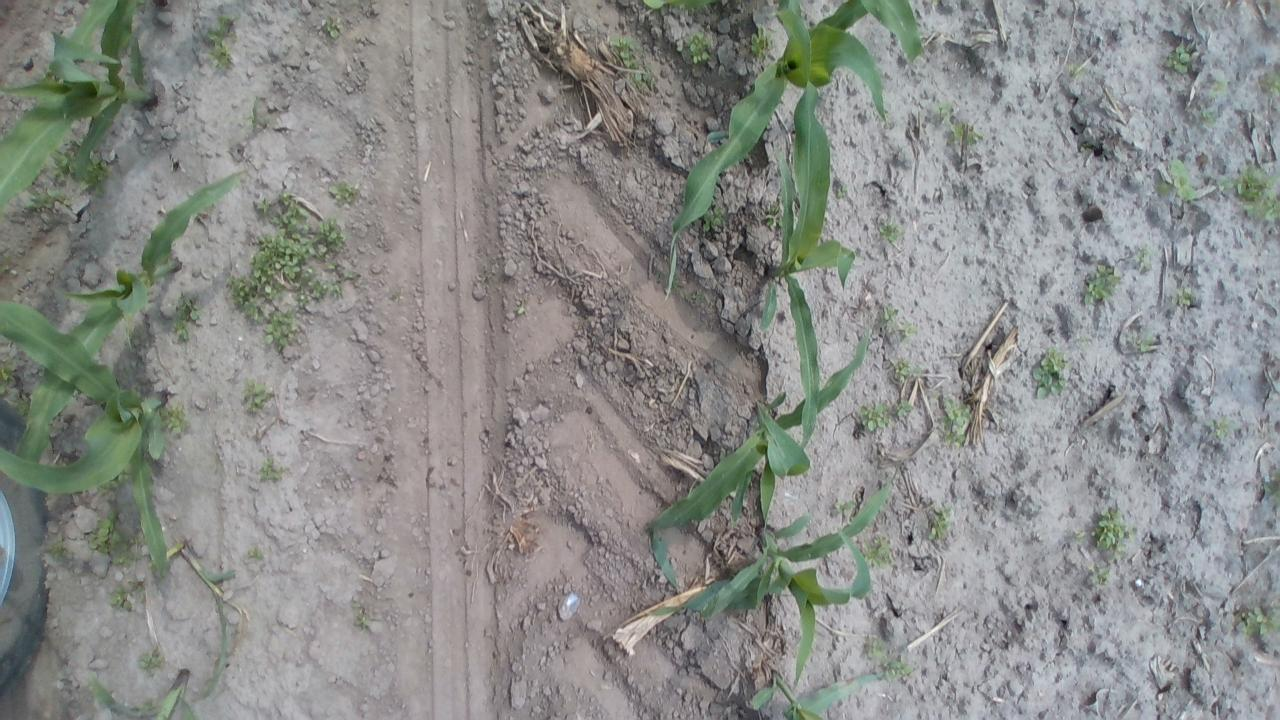Maize: (658, 0, 932, 298), (12, 172, 252, 468), (640, 318, 875, 598), (638, 461, 899, 688), (0, 298, 184, 576), (756, 48, 854, 452), (0, 0, 163, 221), (178, 544, 240, 701), (744, 665, 888, 718), (83, 666, 211, 718), (644, 0, 714, 12)
Weeds: (226, 232, 314, 322), (1232, 164, 1280, 222), (89, 513, 140, 567), (606, 32, 650, 90), (1091, 505, 1134, 561), (1154, 156, 1198, 204), (1030, 346, 1070, 398), (936, 393, 972, 448), (203, 12, 234, 72), (269, 192, 311, 233), (314, 214, 350, 260), (1234, 602, 1277, 640), (1083, 262, 1119, 306), (264, 310, 302, 351), (21, 186, 74, 215), (77, 153, 110, 195), (677, 30, 715, 66), (240, 376, 274, 416), (174, 296, 202, 342), (51, 148, 82, 184), (861, 536, 894, 568), (927, 503, 954, 542), (98, 471, 129, 504), (1164, 44, 1196, 75), (111, 582, 144, 612), (328, 178, 362, 207), (161, 402, 190, 435), (948, 120, 982, 148), (244, 98, 270, 134), (748, 28, 776, 60), (858, 402, 887, 432), (1205, 414, 1235, 442), (878, 303, 903, 336), (0, 354, 17, 400), (259, 456, 286, 483), (888, 358, 916, 384), (1126, 328, 1156, 352), (138, 647, 164, 674), (704, 205, 728, 234), (886, 658, 912, 684), (12, 388, 33, 419), (878, 220, 904, 244), (46, 536, 68, 564), (1088, 565, 1116, 587), (890, 397, 914, 422), (352, 604, 373, 632), (1195, 106, 1219, 130), (1262, 468, 1278, 503), (321, 16, 343, 41), (36, 66, 65, 84), (862, 638, 886, 659), (1256, 71, 1277, 95), (1207, 74, 1229, 96), (1174, 286, 1196, 308), (931, 99, 954, 120), (1065, 62, 1088, 82), (1134, 245, 1154, 268), (834, 498, 856, 518), (762, 205, 781, 228), (308, 280, 329, 299), (246, 544, 268, 562), (690, 288, 709, 304), (900, 322, 916, 341), (834, 183, 851, 200), (122, 324, 134, 348), (329, 280, 344, 299), (514, 298, 528, 316), (256, 198, 270, 216), (1079, 141, 1094, 157), (1076, 334, 1092, 348), (1218, 176, 1232, 190), (1072, 532, 1086, 544), (324, 261, 338, 272), (342, 268, 354, 278)
